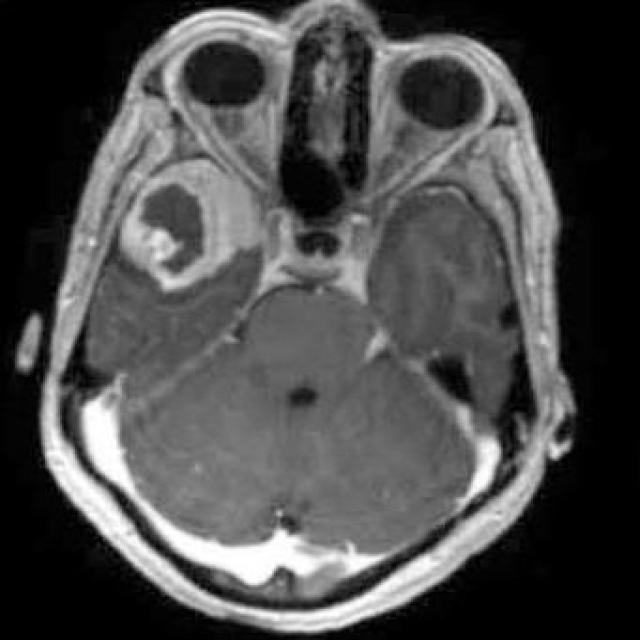Tumor: (118, 158, 261, 292)
